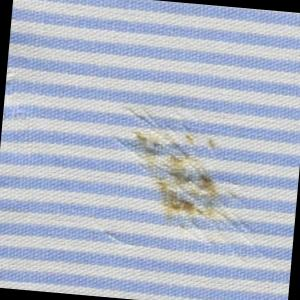Damage: (97, 99, 294, 274)
Oil Stain: (125, 120, 245, 237)
